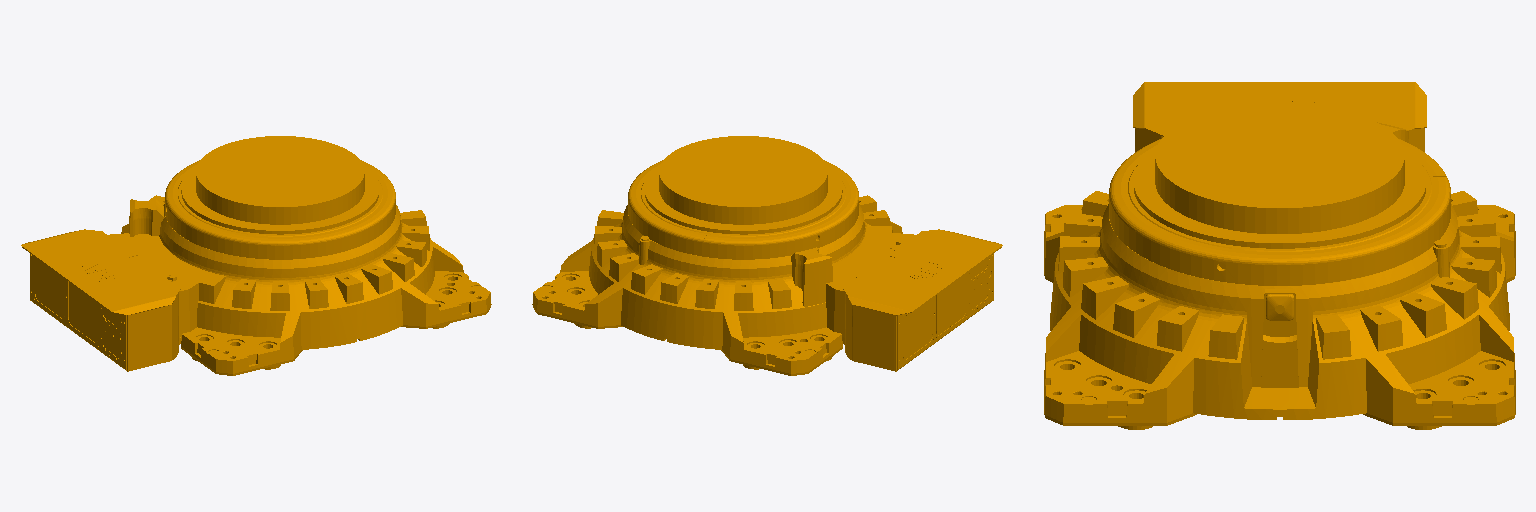
The robot description file, URDF, robot "IRB8700_550_420_SW6":
<?xml version="1.0" ?>
<robot name="IRB8700_550_420_SW6">

<link name="base_link">
  <inertial>
    <origin xyz="-0.08037184969585716 0.0006300808261457967 0.15332267644640482" rpy="0 0 0"/>
    <mass value="1505.6521038393914"/>
    <inertia ixx="76.523178" iyy="124.443069" izz="174.383681" ixy="0.159184" iyz="-0.066316" ixz="-5.164151"/>
  </inertial>
  <visual>
    <origin xyz="0 0 0" rpy="0 0 0"/>
    <geometry>
      <mesh filename="meshes/base_link.stl" scale="0.001 0.001 0.001"/>
    </geometry>
  </visual>
  <collision>
    <origin xyz="0 0 0" rpy="0 0 0"/>
    <geometry>
      <mesh filename="meshes/base_link.stl" scale="0.001 0.001 0.001"/>
    </geometry>
  </collision>
</link>

<link name="link_1">
  <inertial>
    <origin xyz="0.30364505280838955 -0.0018357799370513142 0.5157165485900264" rpy="0 0 0"/>
    <mass value="1785.9186850506833"/>
    <inertia ixx="319.960777" iyy="204.24516" izz="276.794643" ixy="0.482677" iyz="6.821785" ixz="-58.562622"/>
  </inertial>
  <visual>
    <origin xyz="0.0 -0.0 -0.300337" rpy="0 0 0"/>
    <geometry>
      <mesh filename="meshes/link_1.stl" scale="0.001 0.001 0.001"/>
    </geometry>
  </visual>
  <collision>
    <origin xyz="0.0 -0.0 -0.300337" rpy="0 0 0"/>
    <geometry>
      <mesh filename="meshes/link_1.stl" scale="0.001 0.001 0.001"/>
    </geometry>
  </collision>
</link>

<link name="link_2">
  <inertial>
    <origin xyz="0.1193738222891802 -0.1947103899770624 0.7303852208694914" rpy="0 0 0"/>
    <mass value="1443.4541146557397"/>
    <inertia ixx="283.515678" iyy="273.52004" izz="40.693426" ixy="0.50972" iyz="10.053071" ixz="15.357031"/>
  </inertial>
  <visual>
    <origin xyz="-0.42 -0.207 -1.0" rpy="0 0 0"/>
    <geometry>
      <mesh filename="meshes/link_2.stl" scale="0.001 0.001 0.001"/>
    </geometry>
  </visual>
  <collision>
    <origin xyz="-0.42 -0.207 -1.0" rpy="0 0 0"/>
    <geometry>
      <mesh filename="meshes/link_2.stl" scale="0.001 0.001 0.001"/>
    </geometry>
  </collision>
</link>

<link name="link_3">
  <inertial>
    <origin xyz="-0.13074491407877226 -0.26408107026127936 0.23397324999694247" rpy="0 0 0"/>
    <mass value="867.5203145831158"/>
    <inertia ixx="45.096822" iyy="53.006314" izz="58.494954" ixy="1.118886" iyz="-6.435807" ixz="-1.22999"/>
  </inertial>
  <visual>
    <origin xyz="-0.42 -0.363 -2.58" rpy="0 0 0"/>
    <geometry>
      <mesh filename="meshes/link_3.stl" scale="0.001 0.001 0.001"/>
    </geometry>
  </visual>
  <collision>
    <origin xyz="-0.42 -0.363 -2.58" rpy="0 0 0"/>
    <geometry>
      <mesh filename="meshes/link_3.stl" scale="0.001 0.001 0.001"/>
    </geometry>
  </collision>
</link>

<link name="link_4">
  <inertial>
    <origin xyz="1.0698119912815947 -0.02493925429433697 1.7061256211814424e-05" rpy="0 0 0"/>
    <mass value="1308.380613271277"/>
    <inertia ixx="36.649692" iyy="598.423459" izz="617.541576" ixy="22.117394" iyz="0.00502" ixz="-0.015097"/>
  </inertial>
  <visual>
    <origin xyz="-0.764558 0.0 -2.89" rpy="0 0 0"/>
    <geometry>
      <mesh filename="meshes/link_4.stl" scale="0.001 0.001 0.001"/>
    </geometry>
  </visual>
  <collision>
    <origin xyz="-0.764558 0.0 -2.89" rpy="0 0 0"/>
    <geometry>
      <mesh filename="meshes/link_4.stl" scale="0.001 0.001 0.001"/>
    </geometry>
  </collision>
</link>

<link name="link_5">
  <inertial>
    <origin xyz="0.09285479111715667 -0.14771061757644657 0.00039505544227269596" rpy="0 0 0"/>
    <mass value="168.28947433118324"/>
    <inertia ixx="1.923851" iyy="3.241334" izz="3.578358" ixy="-0.062935" iyz="-0.018635" ixz="-0.021331"/>
  </inertial>
  <visual>
    <origin xyz="-2.595 -0.145 -2.89" rpy="0 0 0"/>
    <geometry>
      <mesh filename="meshes/link_5.stl" scale="0.001 0.001 0.001"/>
    </geometry>
  </visual>
  <collision>
    <origin xyz="-2.595 -0.145 -2.89" rpy="0 0 0"/>
    <geometry>
      <mesh filename="meshes/link_5.stl" scale="0.001 0.001 0.001"/>
    </geometry>
  </collision>
</link>


<joint name="joint_1" type="revolute">
  <origin xyz="0.0 0.0 0.300337" rpy="0 0 0"/>
  <parent link="base_link"/>
  <child link="link_1"/>
  <axis xyz="0.0 -0.0 -1.0"/>
  <limit lower="-3.839" upper="3.839" effort="100" velocity="1.31"/>
</joint>

<joint name="joint_2" type="revolute">
  <origin xyz="0.42 0.207 0.699663" rpy="0 0 0"/>
  <parent link="link_1"/>
  <child link="link_2"/>
  <axis xyz="0.0 1.0 0.0"/>
  <limit lower="-1.134" upper="1.571" effort="80" velocity="1.05"/>
</joint>

<joint name="joint_3" type="revolute">
  <origin xyz="0.0 0.156 1.58" rpy="0 0 0"/>
  <parent link="link_2"/>
  <child link="link_3"/>
  <axis xyz="0.0 1.0 0.0"/>
  <limit lower="-0.524" upper="2.303" effort="80" velocity="1.05"/>
</joint>

<joint name="joint_4" type="revolute">
  <origin xyz="0.344558 -0.363 0.31" rpy="0 0 0"/>
  <parent link="link_3"/>
  <child link="link_4"/>
  <axis xyz="1.0 0.0 0.0"/>
  <limit lower="-5.236" upper="5.236" effort="60" velocity="1.48"/>
</joint>

<joint name="joint_5" type="revolute">
  <origin xyz="1.830442 0.145 0.0" rpy="0 0 0"/>
  <parent link="link_4"/>
  <child link="link_5"/>
  <axis xyz="0.0 -1.0 0.0"/>
  <limit lower="-2.268" upper="2.268" effort="60" velocity="1.48"/>
</joint>

<joint name="joint_6" type="revolute">
  <origin xyz="0.2605 -0.145 0.0" rpy="0 0 0"/>
  <parent link="link_5"/>
  <child link="link_6"/>
  <axis xyz="1.0 0.0 0.0"/>
  <limit lower="-6.283" upper="6.283" effort="40" velocity="2.01"/>
</joint>

<joint name="joint_flange" type="fixed">
  <origin xyz="0 0 0" rpy="0 1.57 0"/>
  <parent link="link_6"/>
  <child link="flange"/>
</joint>

<joint name="joint_tool0" type="fixed">
  <origin xyz="0 0 0" rpy="0 0 0"/>
  <parent link="flange"/>
  <child link="tool0"/>
</joint>


<link name="link_6">
  <inertial>
    <origin xyz="0.12322477036900903 -0.012516747025421437 -0.007347434739773728" rpy="0 0 0"/>
    <mass value="58.82091127859069"/>
    <inertia ixx="0.712153" iyy="0.742128" izz="0.727838" ixy="0.003074" iyz="-0.007147" ixz="-0.005751"/>
  </inertial>
  <visual>
    <origin xyz="-2.8555 -0.0 -2.89" rpy="0 0 0"/>
    <geometry>
      <mesh filename="meshes/link_6.stl" scale="0.001 0.001 0.001"/>
    </geometry>
  </visual>
  <collision>
    <origin xyz="-2.8555 -0.0 -2.89" rpy="0 0 0"/>
    <geometry>
      <mesh filename="meshes/link_6.stl" scale="0.001 0.001 0.001"/>
    </geometry>
  </collision>
</link>

<link name="flange">
  <inertial>
    <origin xyz="0 0 0" rpy="0 0 0"/>
    <mass value="0.1"/>
    <inertia ixx="0.0001" iyy="0.0001" izz="0.0001" ixy="0" iyz="0" ixz="0"/>
  </inertial>
</link>

<link name="tool0">
  <inertial>
    <origin xyz="0 0 0" rpy="0 0 0"/>
    <mass value="0.01"/>
    <inertia ixx="0.00001" iyy="0.00001" izz="0.00001" ixy="0" iyz="0" ixz="0"/>
  </inertial>
</link>

</robot>

--- What the picture shows (computed from the rendered views, not written in the file) ---
The picture shows the robot from 3 angles, left to right: view 1: azimuth 30°, elevation 25°; view 2: azimuth 150°, elevation 25°; view 3: azimuth 270°, elevation 25°; orthographic projection.
Model IRB8700_550_420_SW6 with 9 links and 8 joints (6 revolute, 2 fixed), rooted at base_link, posed every joint at zero.
Visible links, largest first — view 1: base_link; view 2: base_link; view 3: base_link.
Boxes of the visible links, box(x1,y1,x2,y2) form: base_link: box(21, 136, 491, 375); base_link: box(532, 136, 1002, 375); base_link: box(1044, 82, 1515, 429).
Size in the robot's own frame: 1.18 by 0.92 by 0.3809 metres.
Meshes: 7 distinct files referenced, 1 mesh visuals loaded (1 binary STL); not drawn: 6 (reference not matched to a file when rendering).